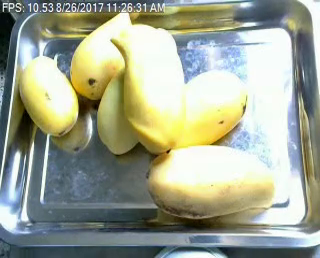Mango: (110, 23, 183, 153), (146, 146, 274, 220), (168, 69, 248, 149), (70, 7, 133, 98), (19, 55, 78, 137), (98, 65, 141, 155)
